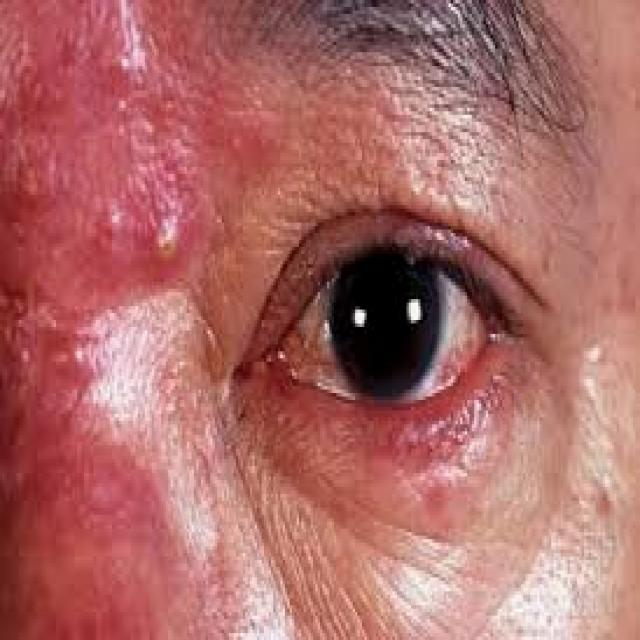Rosacea: (0, 0, 274, 600), (350, 363, 521, 522)
